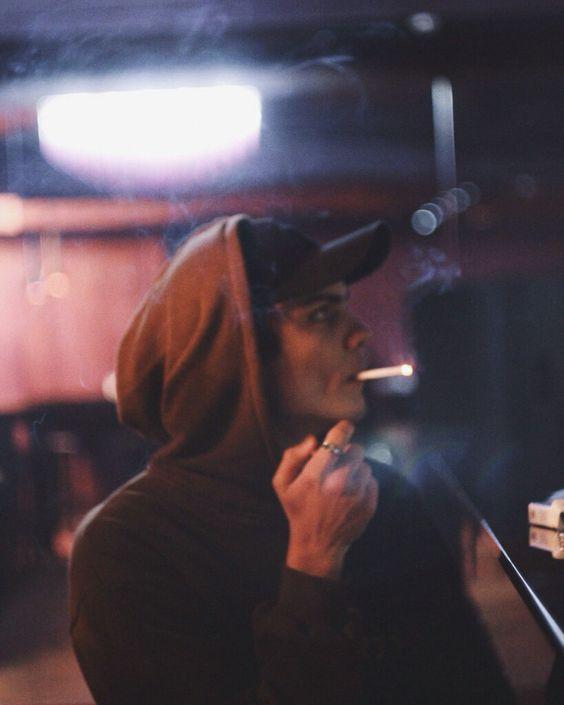cigarette: (354, 364, 413, 382)
